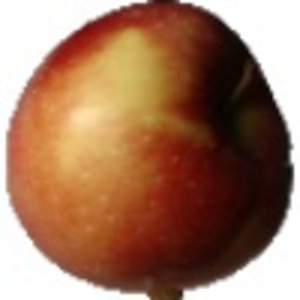maçã braeburn: (3, 3, 297, 289)
